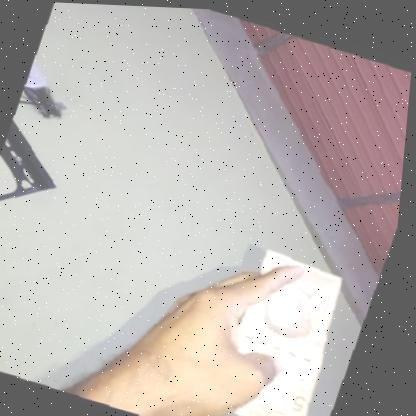five-front-vef: (215, 243, 360, 416)
